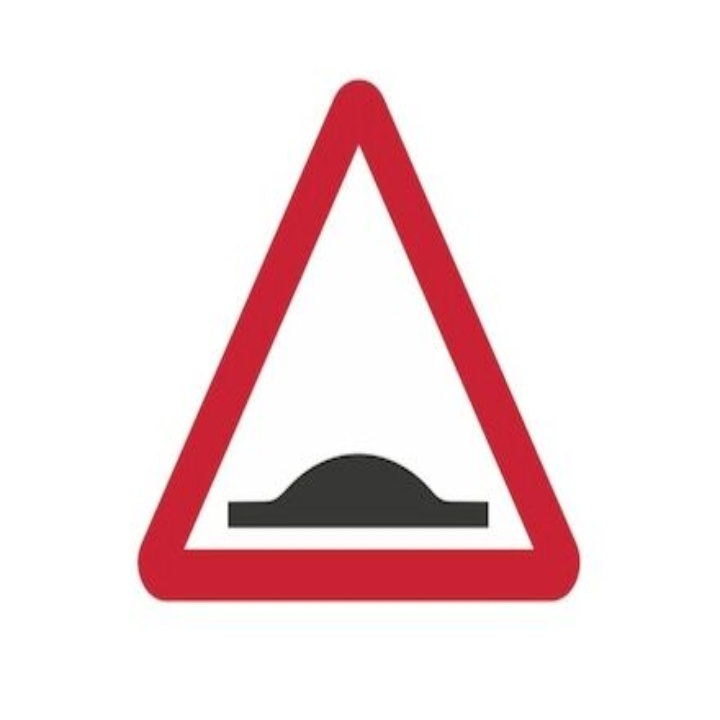bump: (215, 439, 507, 549)
